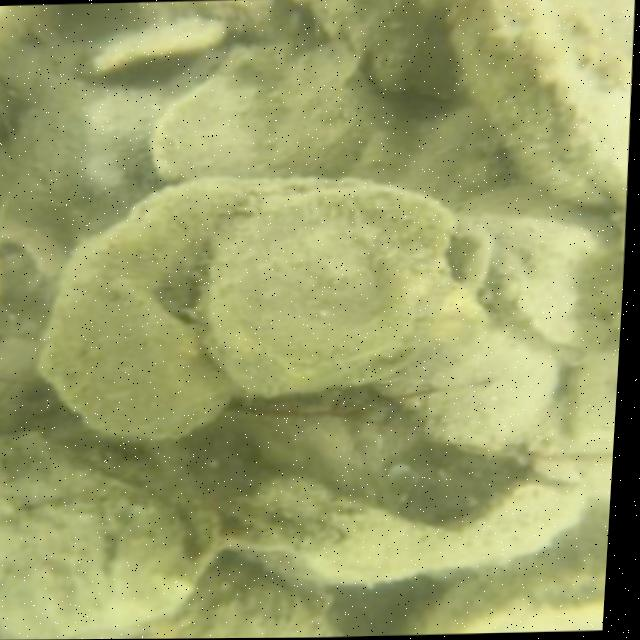Oyster-Closed: (0, 431, 225, 640)
Oyster-Indeterminate: (41, 179, 239, 440), (455, 0, 629, 203), (151, 49, 371, 176), (430, 520, 608, 624), (185, 559, 328, 637)
Oyster-Open: (208, 190, 494, 389)
